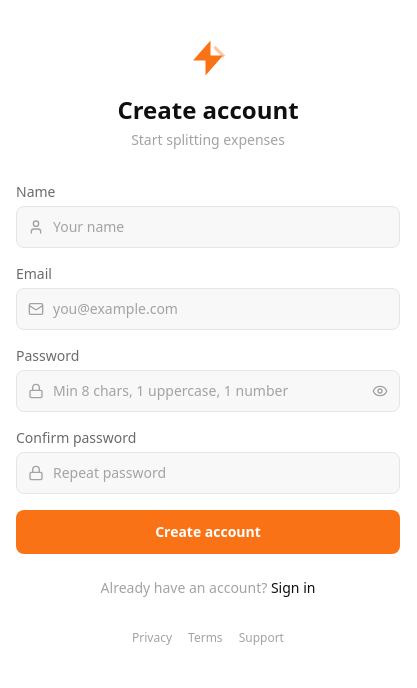
it: RegisterPage registration flow and confirmation UI › displays rate-limit error message on signup rate limit
In the field labelled "Name": x=208, y=227 [16, 206, 400, 248], type "Jane Doe"
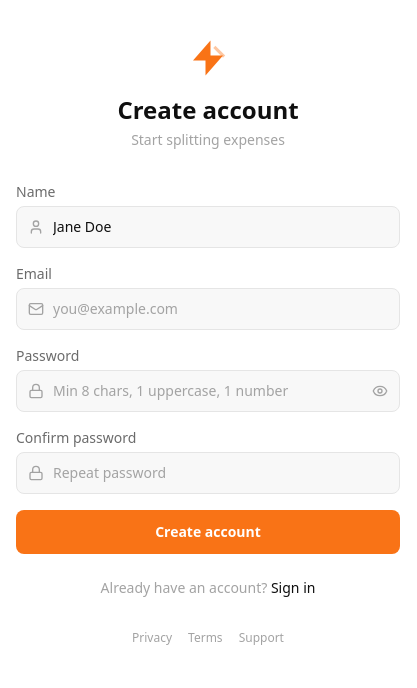
In the field labelled "Email": x=208, y=309 [16, 288, 400, 330], type "jane@example.com"
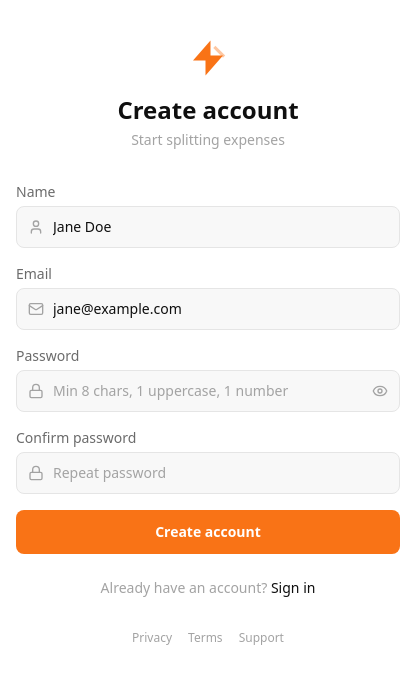
In the password field labelled "Password": x=208, y=391 [16, 370, 400, 412], type "Secret123"
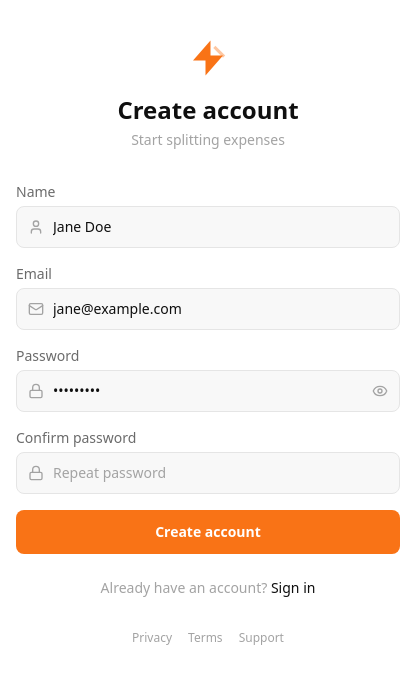
In the password field labelled "Confirm password": x=208, y=473 [16, 452, 400, 494], type "Secret123"
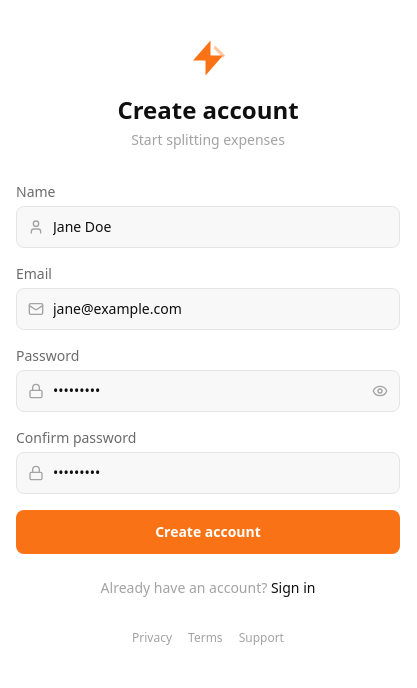
Click the button "Create account": x=208, y=532 [16, 510, 400, 554]
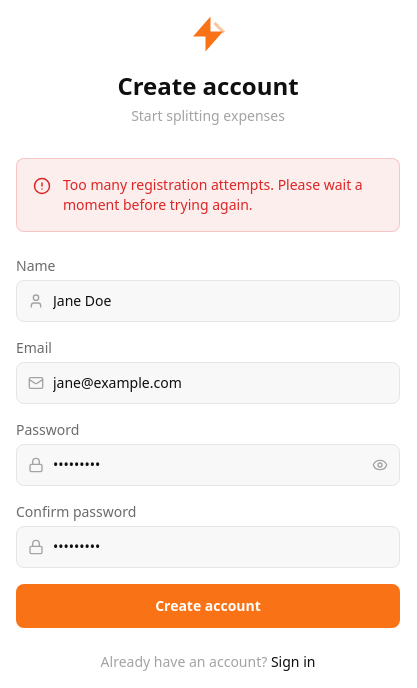
Now the text "Too many registration attempts. Please wait a moment" is shown, box [63, 175, 363, 214]
